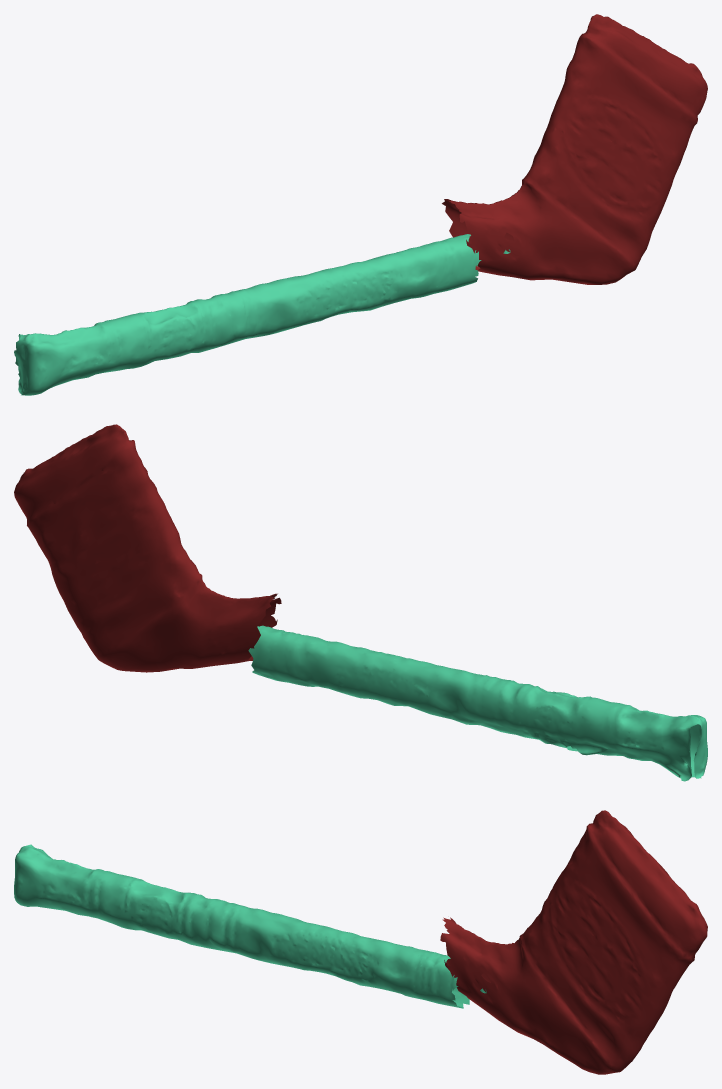
Rendered from object_deformed_9.obj.
3 views of the same model, one above another, from view 1: azimuth 30°, elevation 25°; view 2: azimuth 150°, elevation 25°; view 3: azimuth 330°, elevation 25° (orthographic). The views are drawn at different scales.
Bounding box in the file's own units: 0.6317 × 0.2258 × 0.0491.
